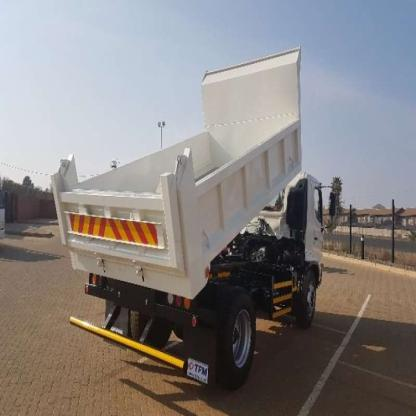dump_truck: (46, 39, 338, 396)
